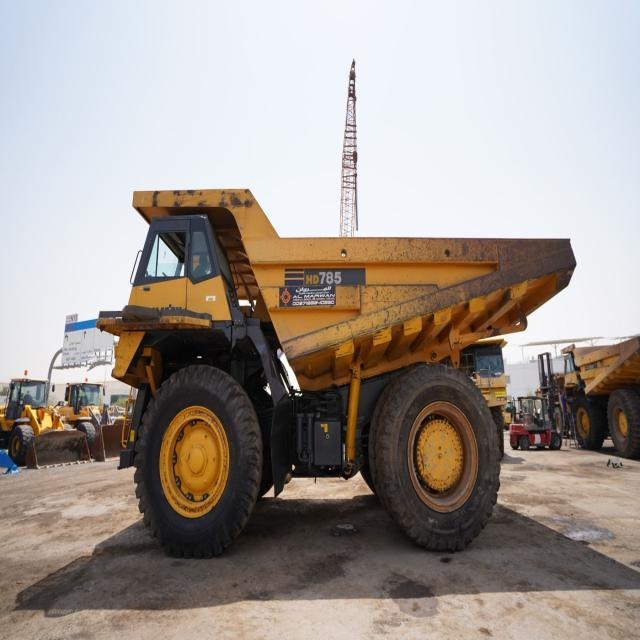dump_truck: (98, 187, 576, 556)
